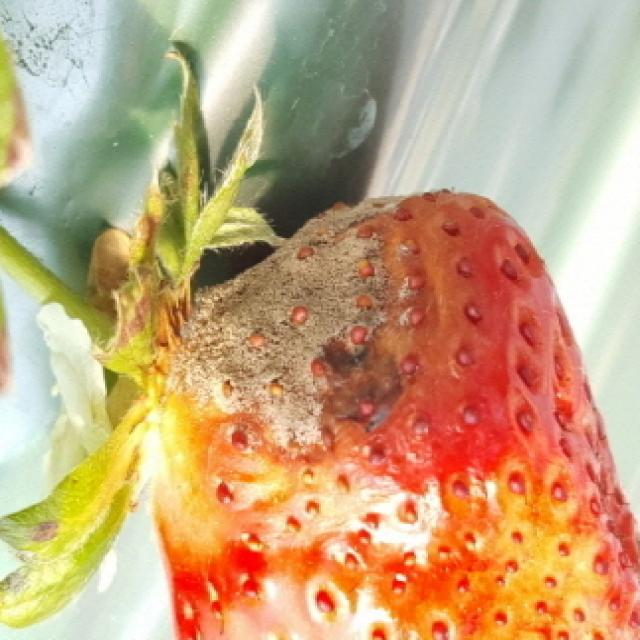Gray Mold: (142, 192, 460, 472)
